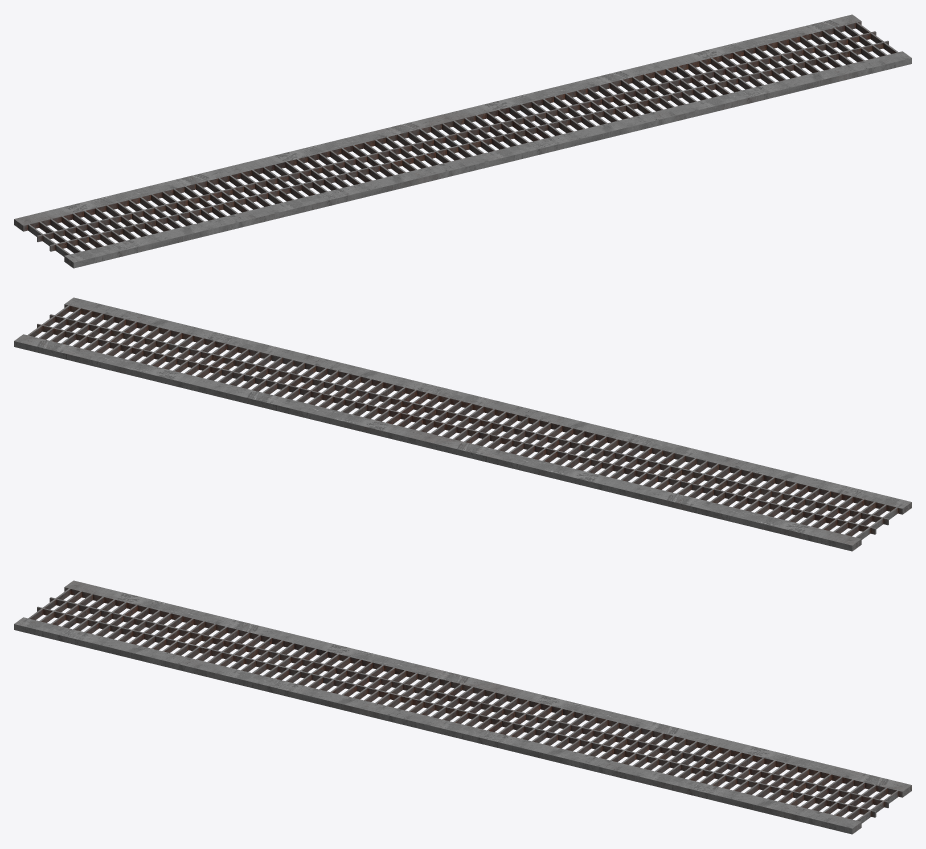
File: DrainGrid_01.FBX
The picture shows the model from 3 angles, top to bottom: view 1: azimuth 30°, elevation 25°; view 2: azimuth 150°, elevation 25°; view 3: azimuth 330°, elevation 25°; orthographic projection.
Visible parts, largest first — view 1: DrainGrid_01; view 2: DrainGrid_01; view 3: DrainGrid_01.
Boxes of the visible parts, x1,y1,x2,y2 form: DrainGrid_01: (14, 14, 911, 268); DrainGrid_01: (14, 297, 911, 551); DrainGrid_01: (14, 580, 911, 834).
Bounding box in the file's own units: 150 × 1 × 18.45.
